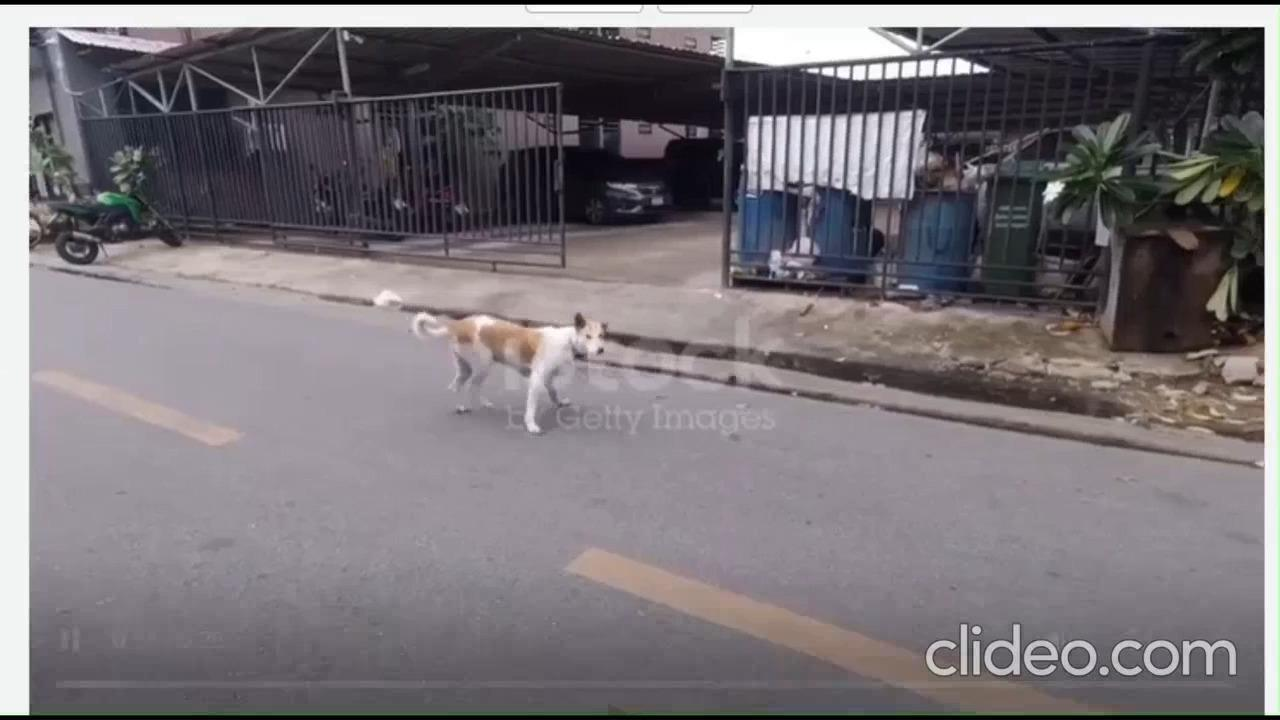dog: (406, 310, 611, 451)
